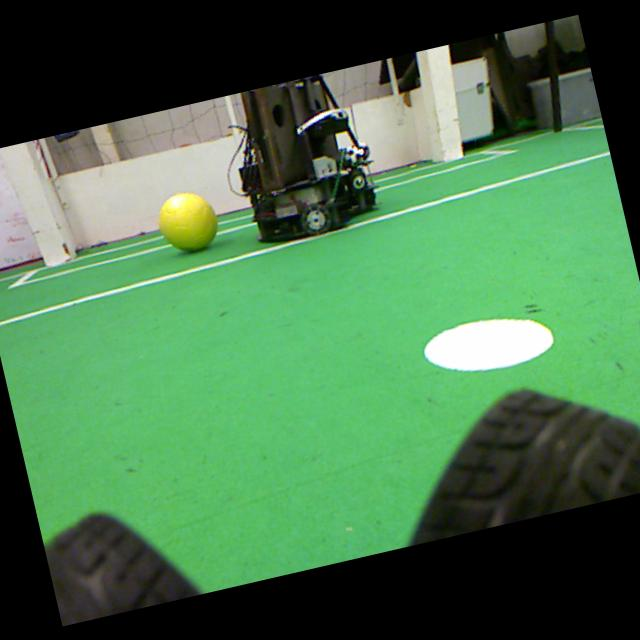ball: (158, 192, 217, 251)
goal: (0, 142, 71, 267), (426, 45, 465, 162)
robot: (238, 74, 379, 243)
